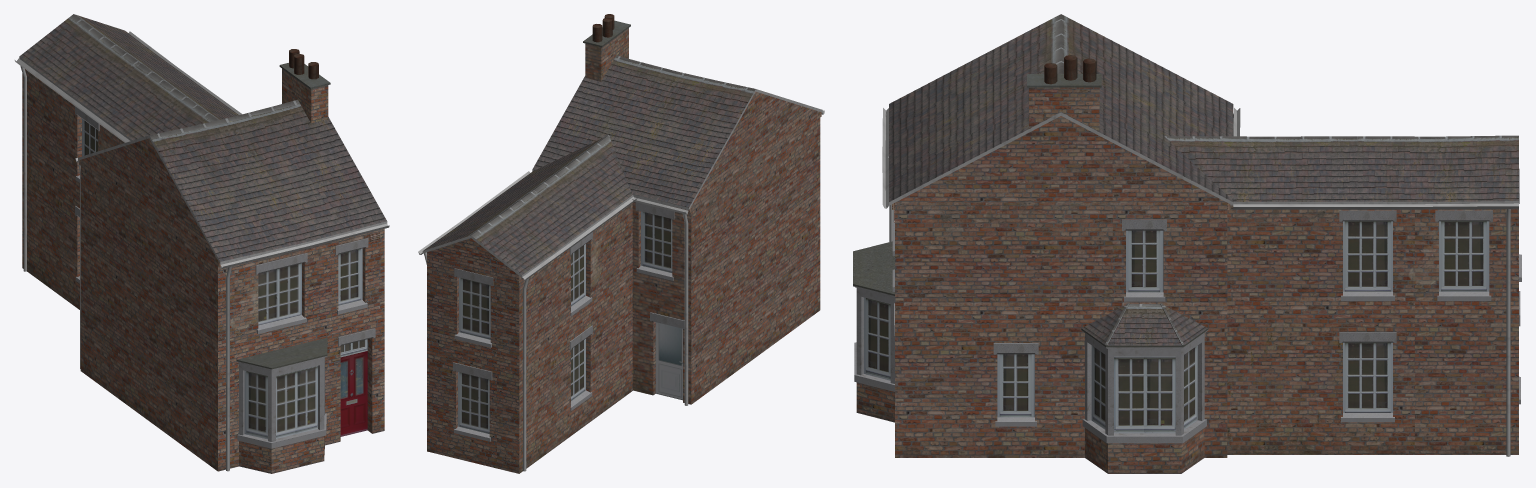
The model's file is ukterracedvictorianc4bm.FBX.
The picture shows the model from 3 angles, left to right: view 1: azimuth 30°, elevation 25°; view 2: azimuth 150°, elevation 25°; view 3: azimuth 270°, elevation 25°; orthographic projection. The views are drawn at different scales.
Visible parts, largest first — view 1: Object003; view 2: Object003; view 3: Object003.
Boxes of the visible parts, x1=… form: Object003: x1=14, y1=14, x2=389, y2=473; Object003: x1=418, y1=14, x2=824, y2=473; Object003: x1=853, y1=14, x2=1521, y2=473.
Bounding box in the file's own units: 662 × 1045 × 1611.
